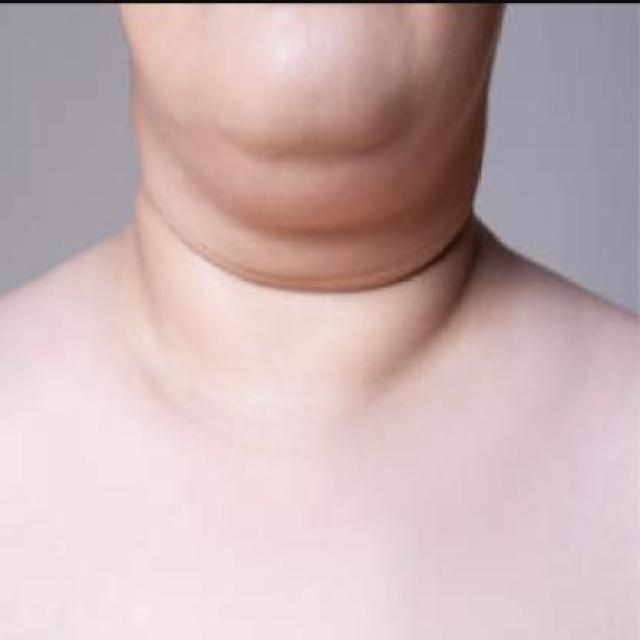Healthy: (140, 80, 479, 274)
